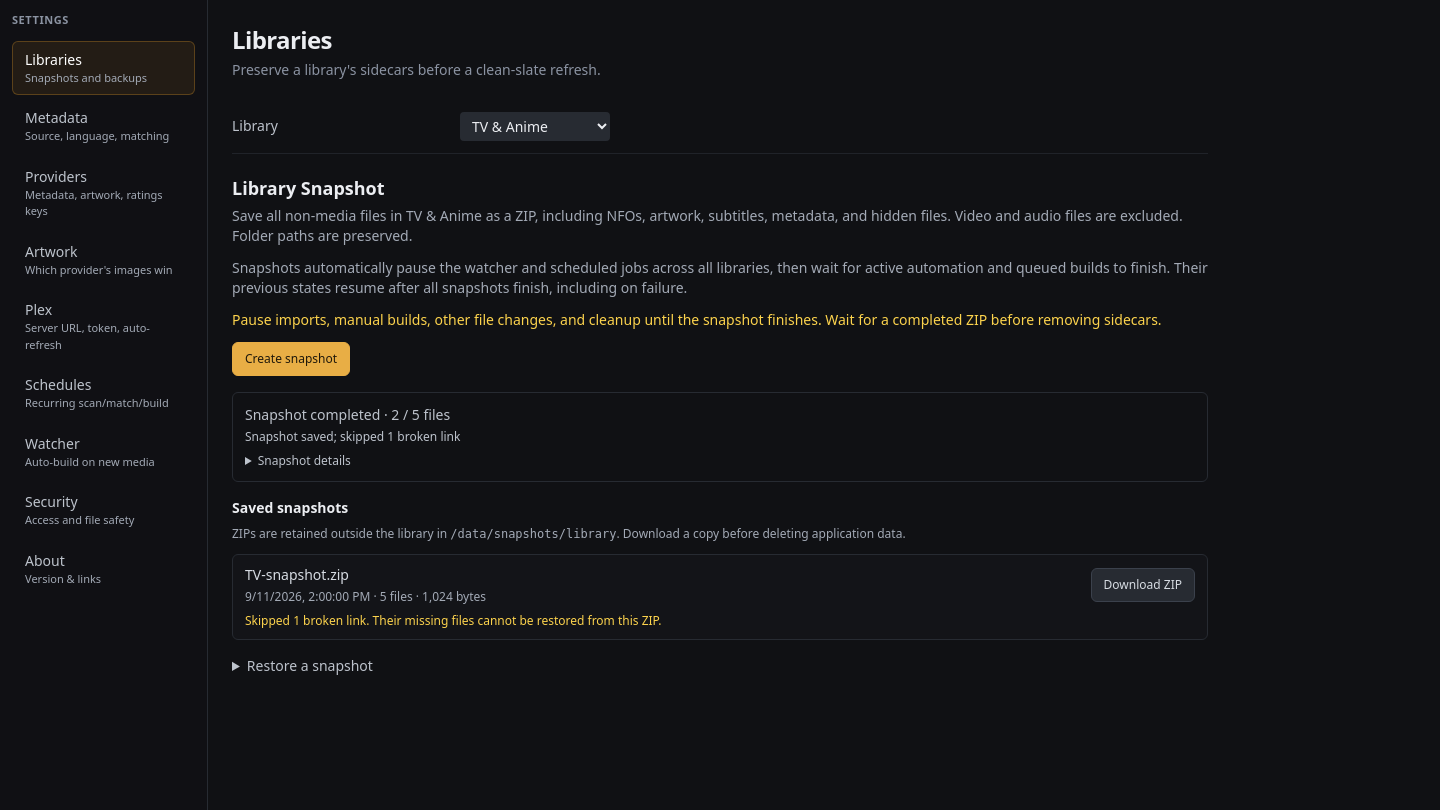
Test: library snapshots settings › keeps skipped-link warnings on saved ZIPs with job history present: true
This screenshot has width=1440, height=810.
Expected: the text "Skipped 1 broken link. Their missing files cannot be restored from this ZIP." is shown, left=245, top=612, right=662, bottom=629
Expected: the link with aria-label "Download ZIP TV-snapshot.zip" is shown, left=1091, top=568, right=1195, bottom=602
Click the heading "Snapshot details" at x=304, y=460, box left=258, top=452, right=351, bottom=469
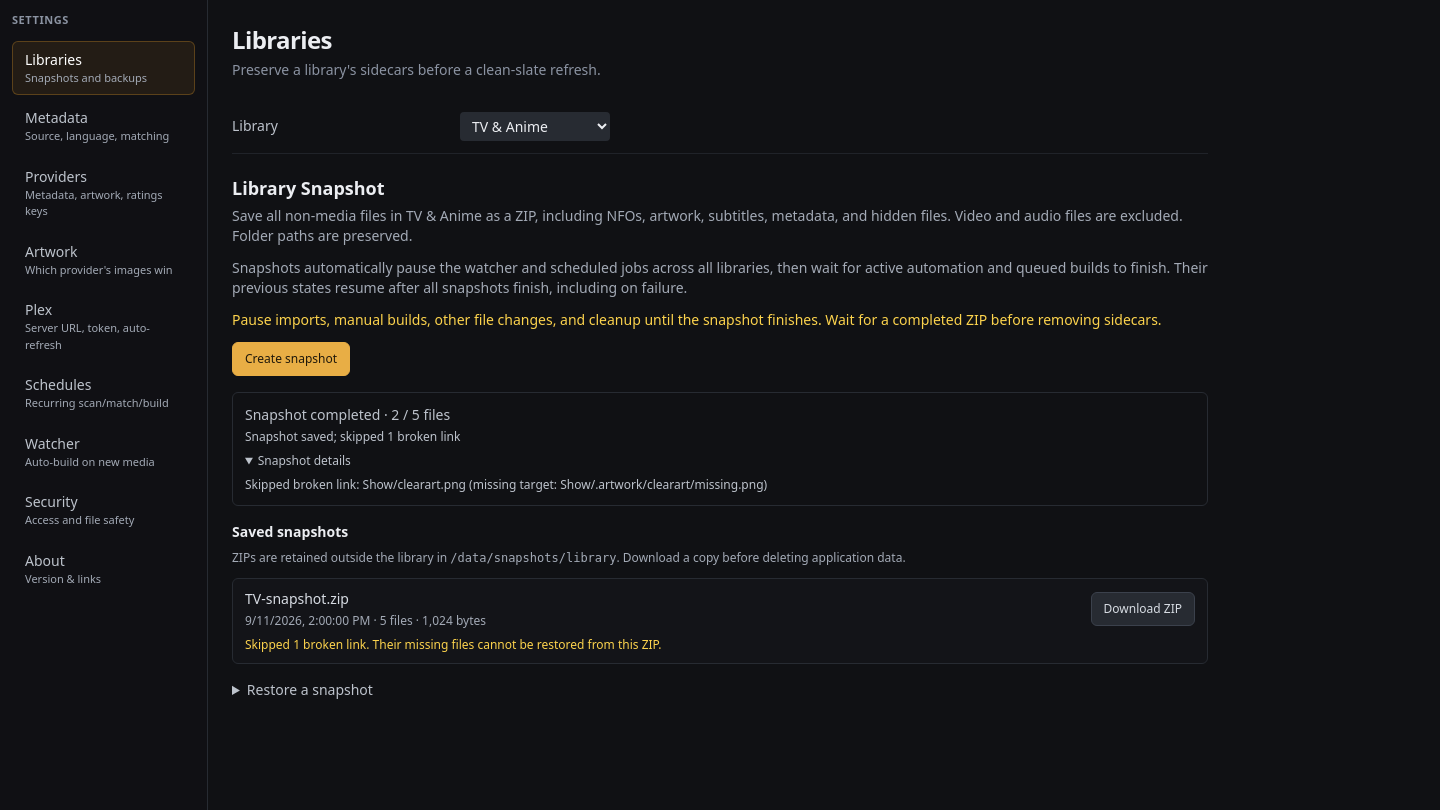
Result: the list item "Skipped broken link: Show/clearart.png (missing target: Show/.artwork/clearart/missing.png)" is shown at left=245, top=476, right=767, bottom=493
